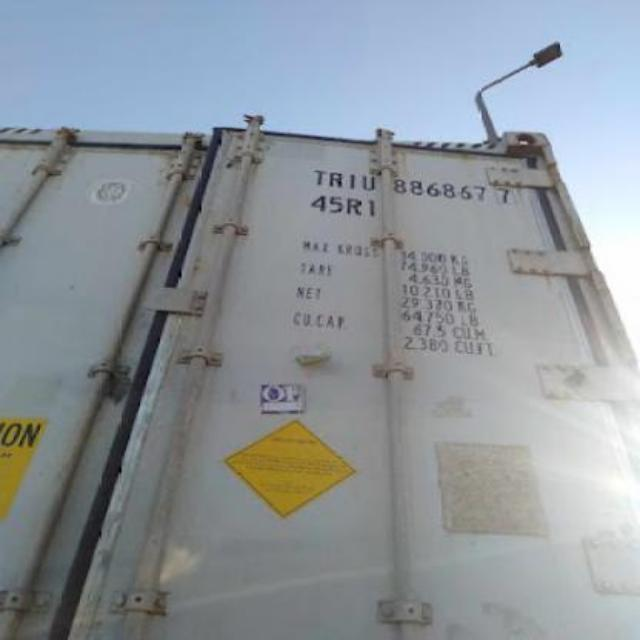6: (458, 183, 472, 201), (428, 181, 442, 197)
7: (472, 185, 488, 201), (496, 186, 509, 202)
8: (440, 182, 456, 200), (392, 180, 406, 194), (410, 182, 422, 196)
I: (348, 174, 356, 190)
R: (331, 170, 344, 190)
T: (314, 170, 328, 186)
U: (360, 175, 376, 191)
